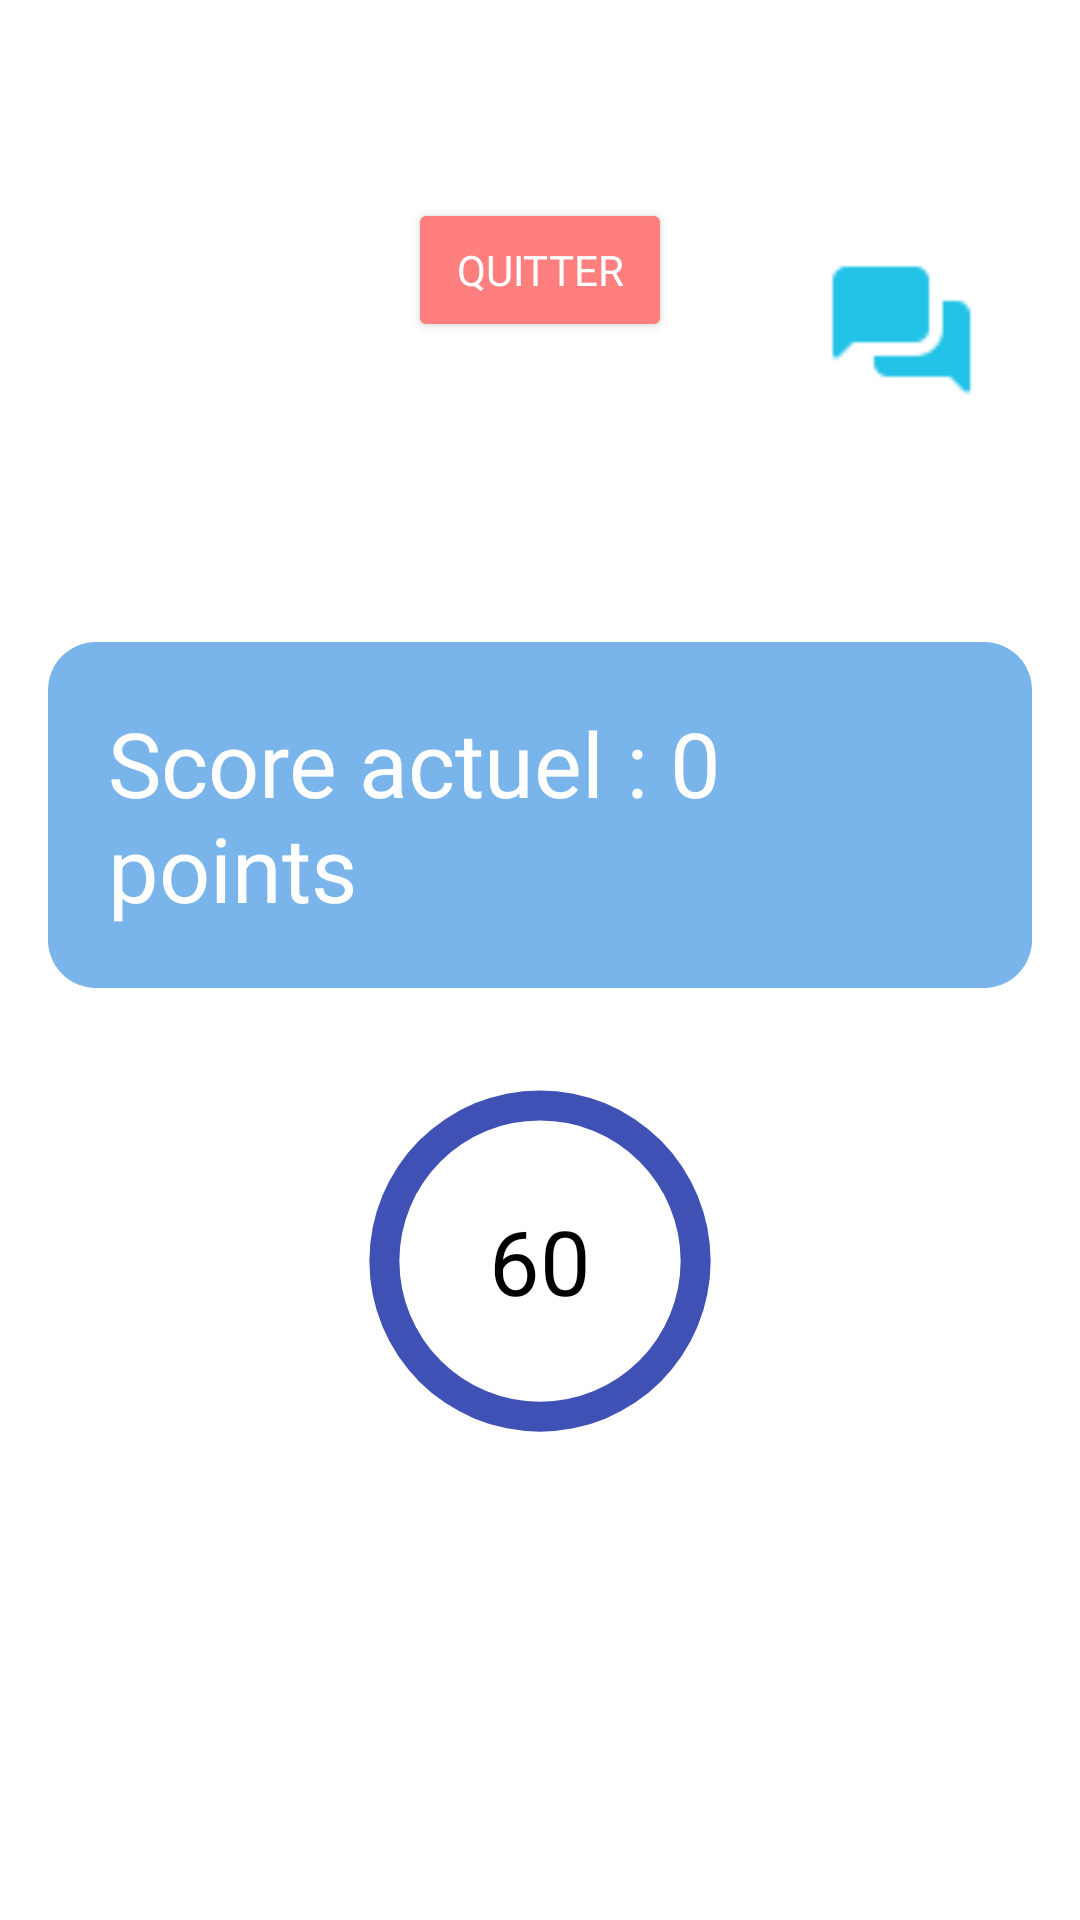

Screen size 1080 x 1920. Icon name, then its box in pixels as (x1, y1, x2, y2):
use chat: (831, 265, 972, 395)
